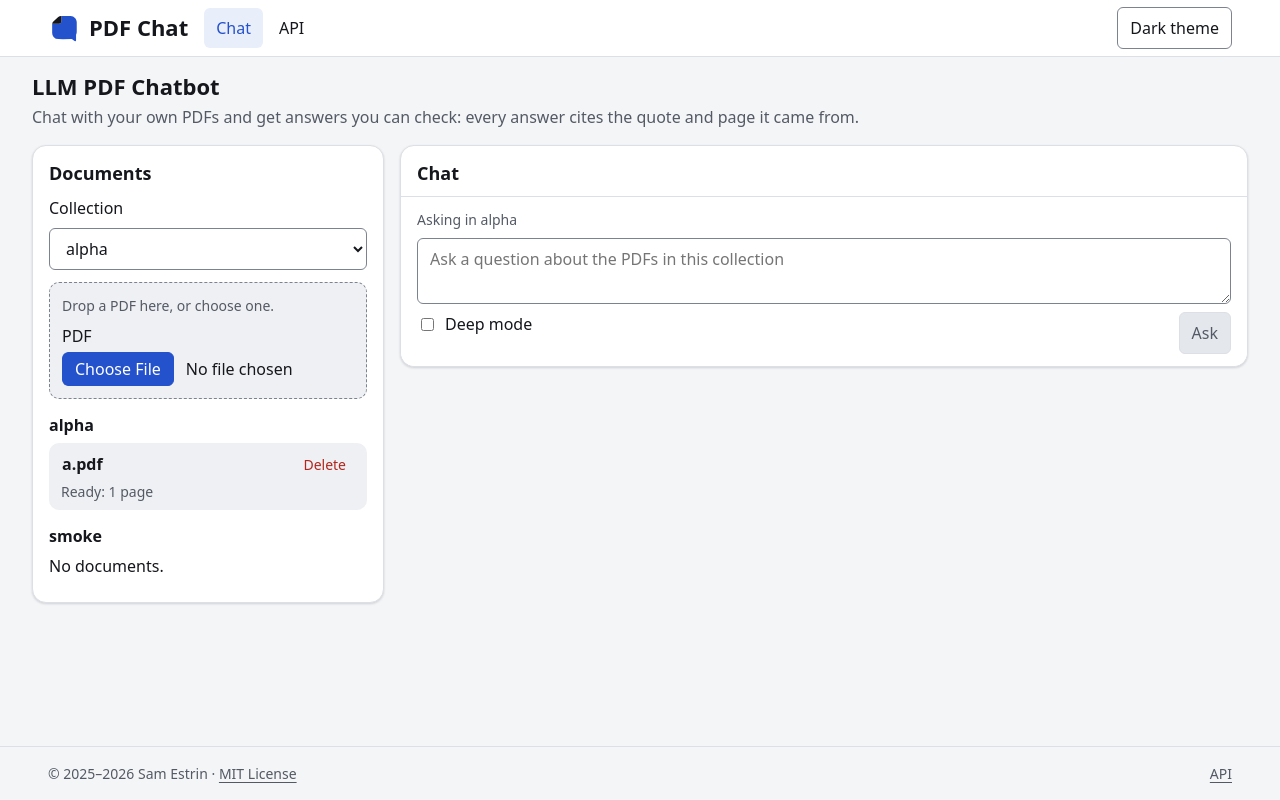
App › the active collection › falls back to the first collection when the active one is removed
Check: the button "a.pdf" is shown, box left=61, top=451, right=286, bottom=477
Select "smoke" in the dropdown labelled "Collection" at (208, 249), box left=49, top=228, right=367, bottom=270
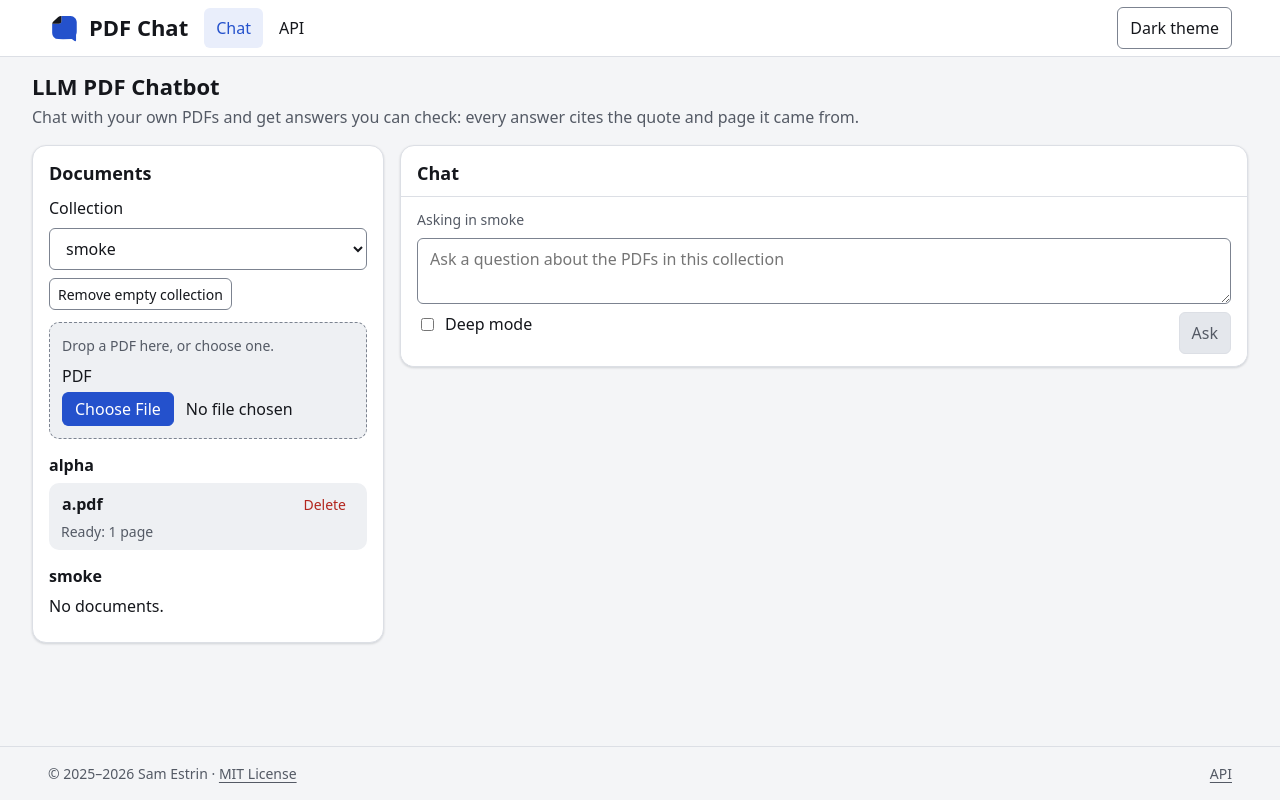
Click the button "Remove empty collection".
click(140, 294)  # box left=49, top=278, right=232, bottom=310
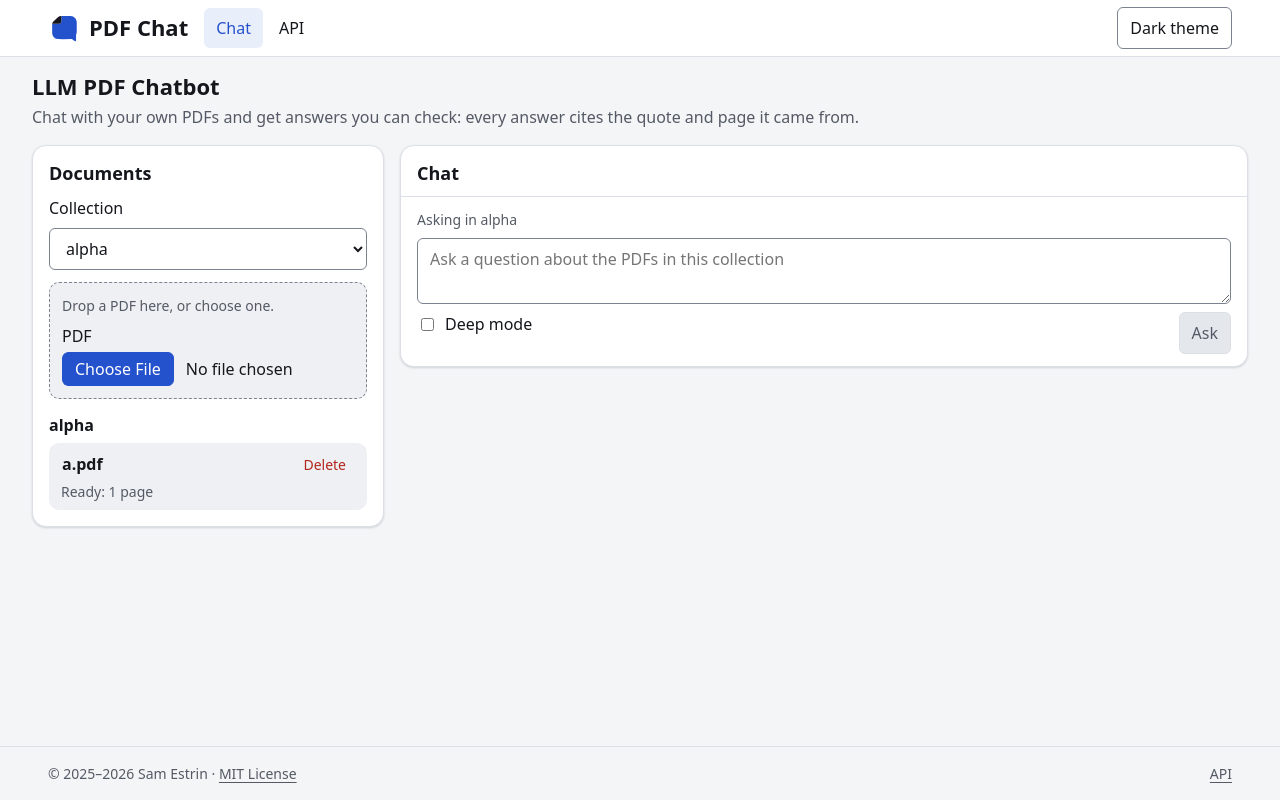
Check: the heading "smoke" is gone
Check: the button "Remove empty collection" is gone
